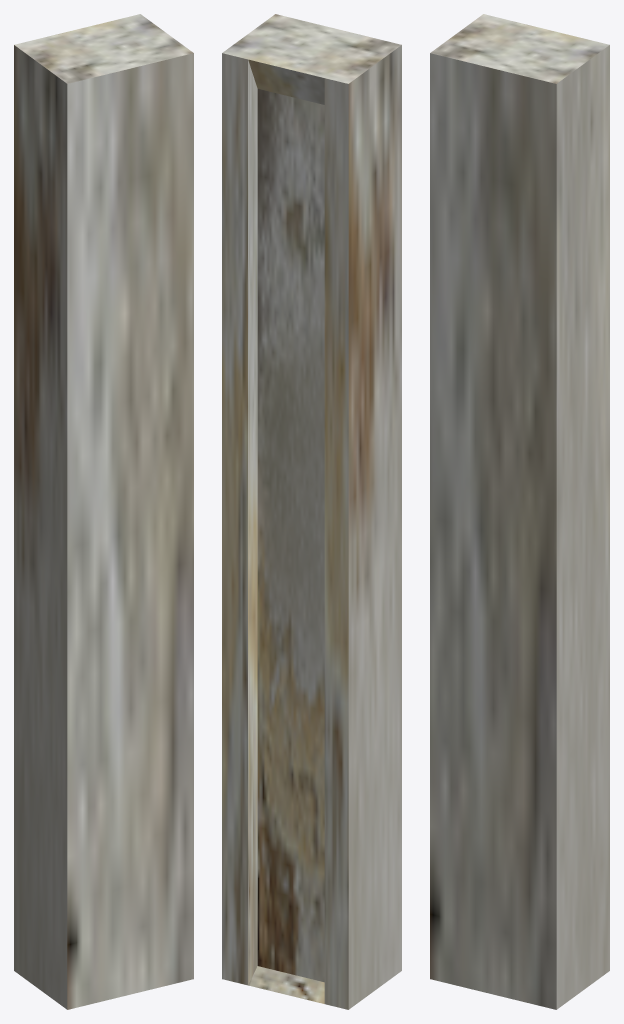
The model's file is Pillar_1.fbx.
3 renders of one model, left to right at view 1: azimuth 30°, elevation 25°; view 2: azimuth 150°, elevation 25°; view 3: azimuth 330°, elevation 25°, orthographic.
Visible parts, largest first — view 1: Cube.001; view 2: Cube.001; view 3: Cube.001.
Part boxes in pixels (x1,y1,x2,y2): Cube.001: (14,14,193,1009); Cube.001: (222,14,401,1009); Cube.001: (430,14,609,1009).
Bounding box in the file's own units: 28.59 × 200 × 20.93.
